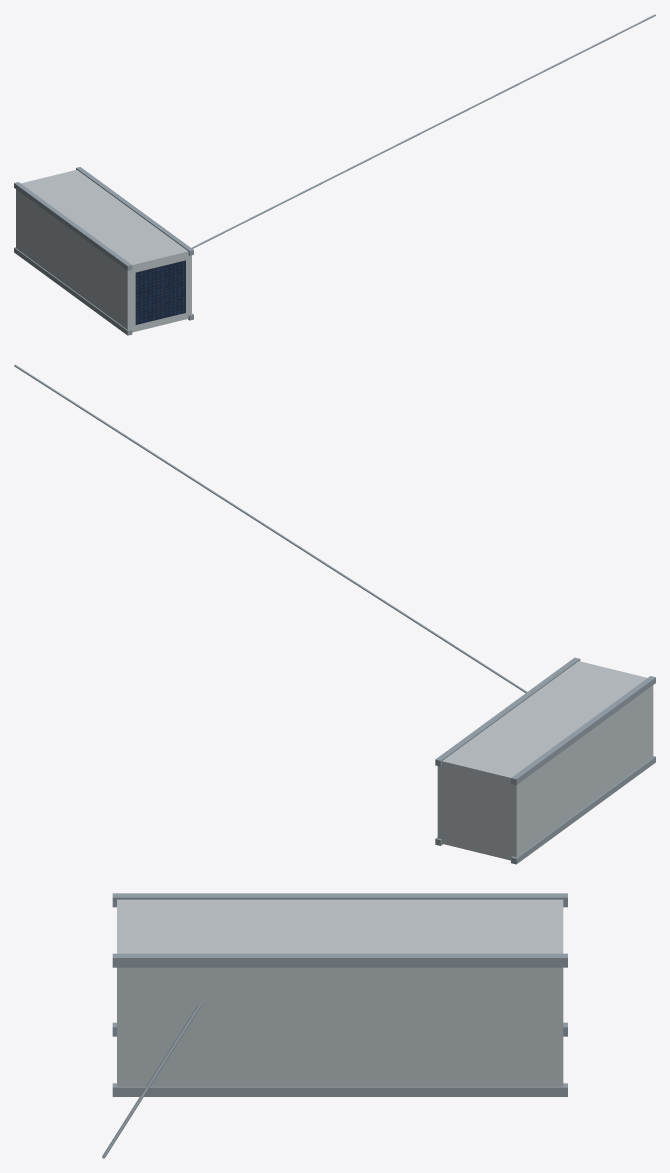
Rendered from ref-cubesat-3u-39404.glb.
3 renders of one model, top to bottom at view 1: azimuth 30°, elevation 25°; view 2: azimuth 150°, elevation 25°; view 3: azimuth 270°, elevation 25°, orthographic. The views are drawn at different scales.
Visible parts, largest first — view 1: Spacecraft body, Body-mounted cells, Dispenser rail (×3), Antenna boom; view 2: Spacecraft body, Dispenser rail (×3), Antenna boom; view 3: Spacecraft body, Dispenser rail (×3), Antenna boom.
Part boxes in pixels (x1=…): Spacecraft body: x1=16, y1=170, x2=191, y2=332; Body-mounted cells: x1=135, y1=260, x2=185, y2=324; Dispenser rail (×3): x1=14, y1=167, x2=193, y2=335; Antenna boom: x1=191, y1=14, x2=655, y2=248; Spacecraft body: x1=437, y1=661, x2=653, y2=860; Dispenser rail (×3): x1=435, y1=657, x2=655, y2=864; Antenna boom: x1=14, y1=364, x2=526, y2=692; Spacecraft body: x1=117, y1=899, x2=563, y2=1086; Dispenser rail (×3): x1=112, y1=893, x2=567, y2=1096; Antenna boom: x1=102, y1=1004, x2=201, y2=1158.
Bounding box in the file's own units: 0.8161 × 0.289 × 0.3131.
3 materials, 1 textured.
